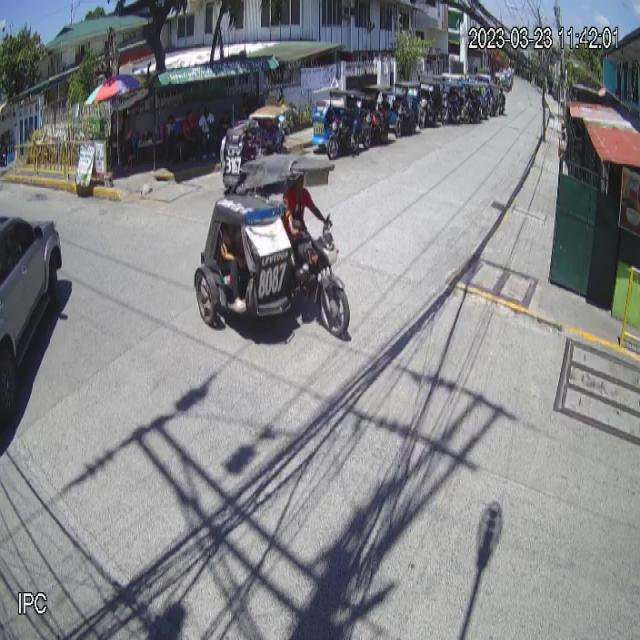Tricycle: (194, 151, 352, 336)
